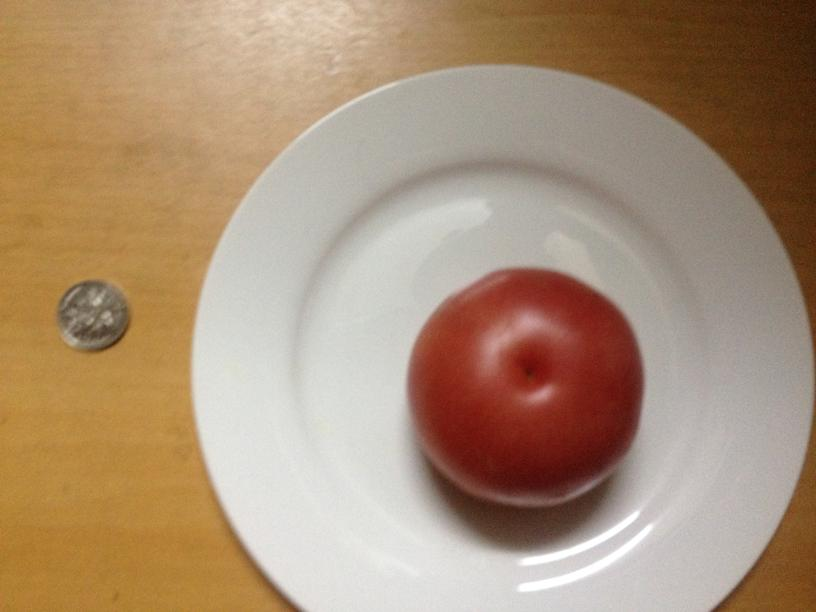coin: (56, 281, 131, 348)
tomato: (409, 272, 639, 509)
